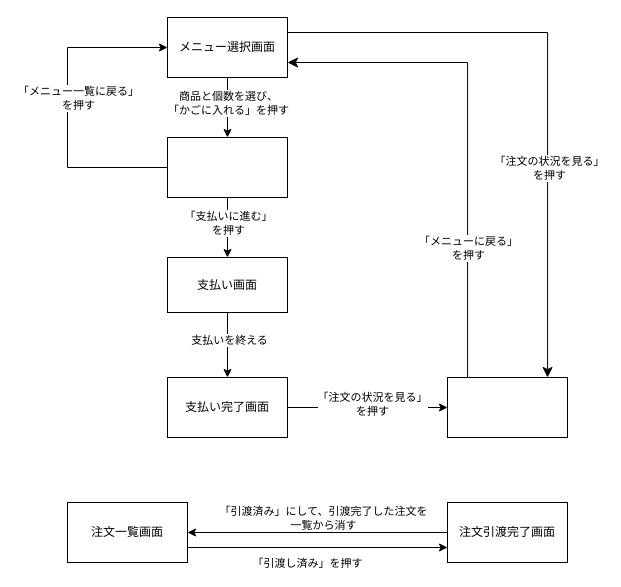
Image size: 621x587. Some labels were removed from this diagram. Here are the shapes that lost their labels. From the top down, the centre of each, then its label:
At (227,167): "注文確定画面".
At (507,407): "注文状況確認画面".
